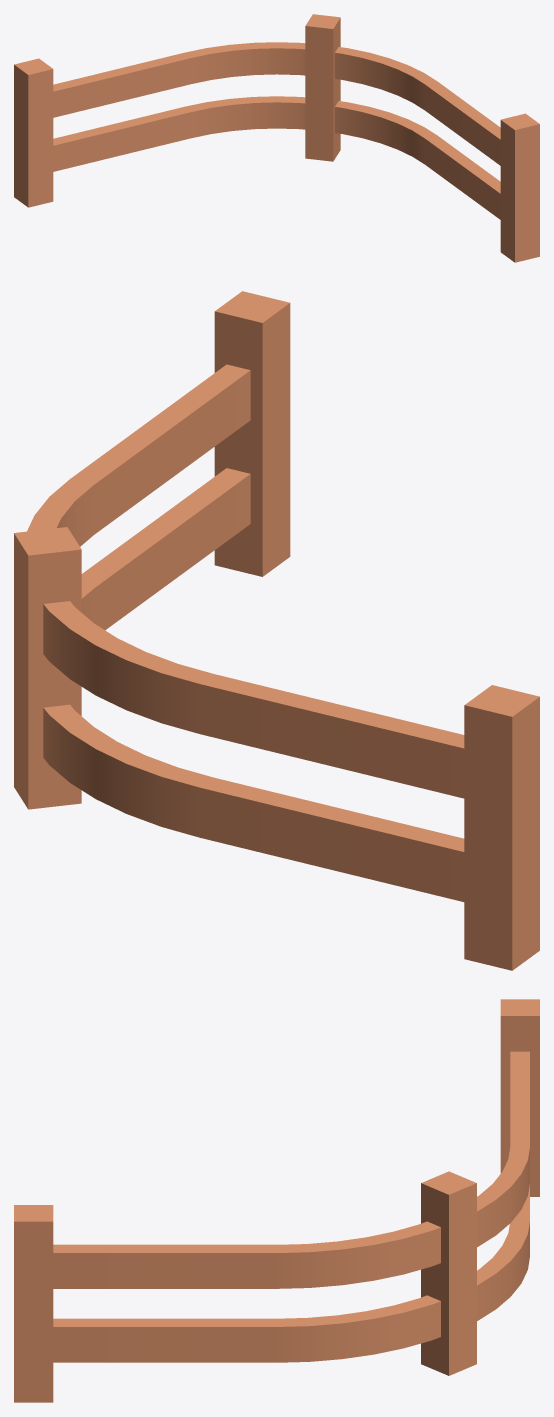
The model's file is fenceCurved.obj.
The picture shows the model from 3 angles, top to bottom: view 1: azimuth 30°, elevation 25°; view 2: azimuth 150°, elevation 25°; view 3: azimuth 270°, elevation 25°; orthographic projection. The views are drawn at different scales.
Parts seen in each view (by area): view 1: fenceCurved; view 2: fenceCurved; view 3: fenceCurved.
Part boxes in pixels (x1,y1,x2,y2): fenceCurved: (14,14,539,262); fenceCurved: (14,291,539,970); fenceCurved: (14,999,539,1402).
Size of the model in its own units: 1 by 0.38 by 1.
